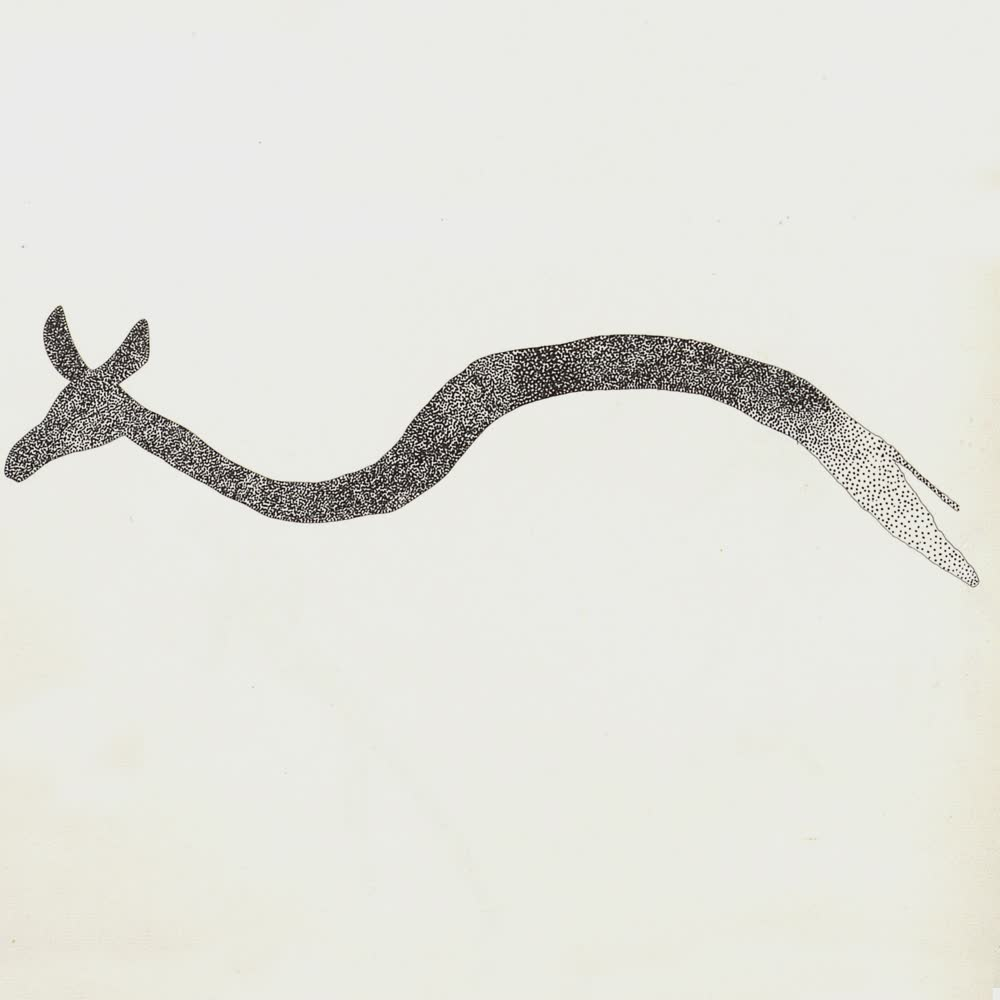animal: (1, 296, 990, 594)
